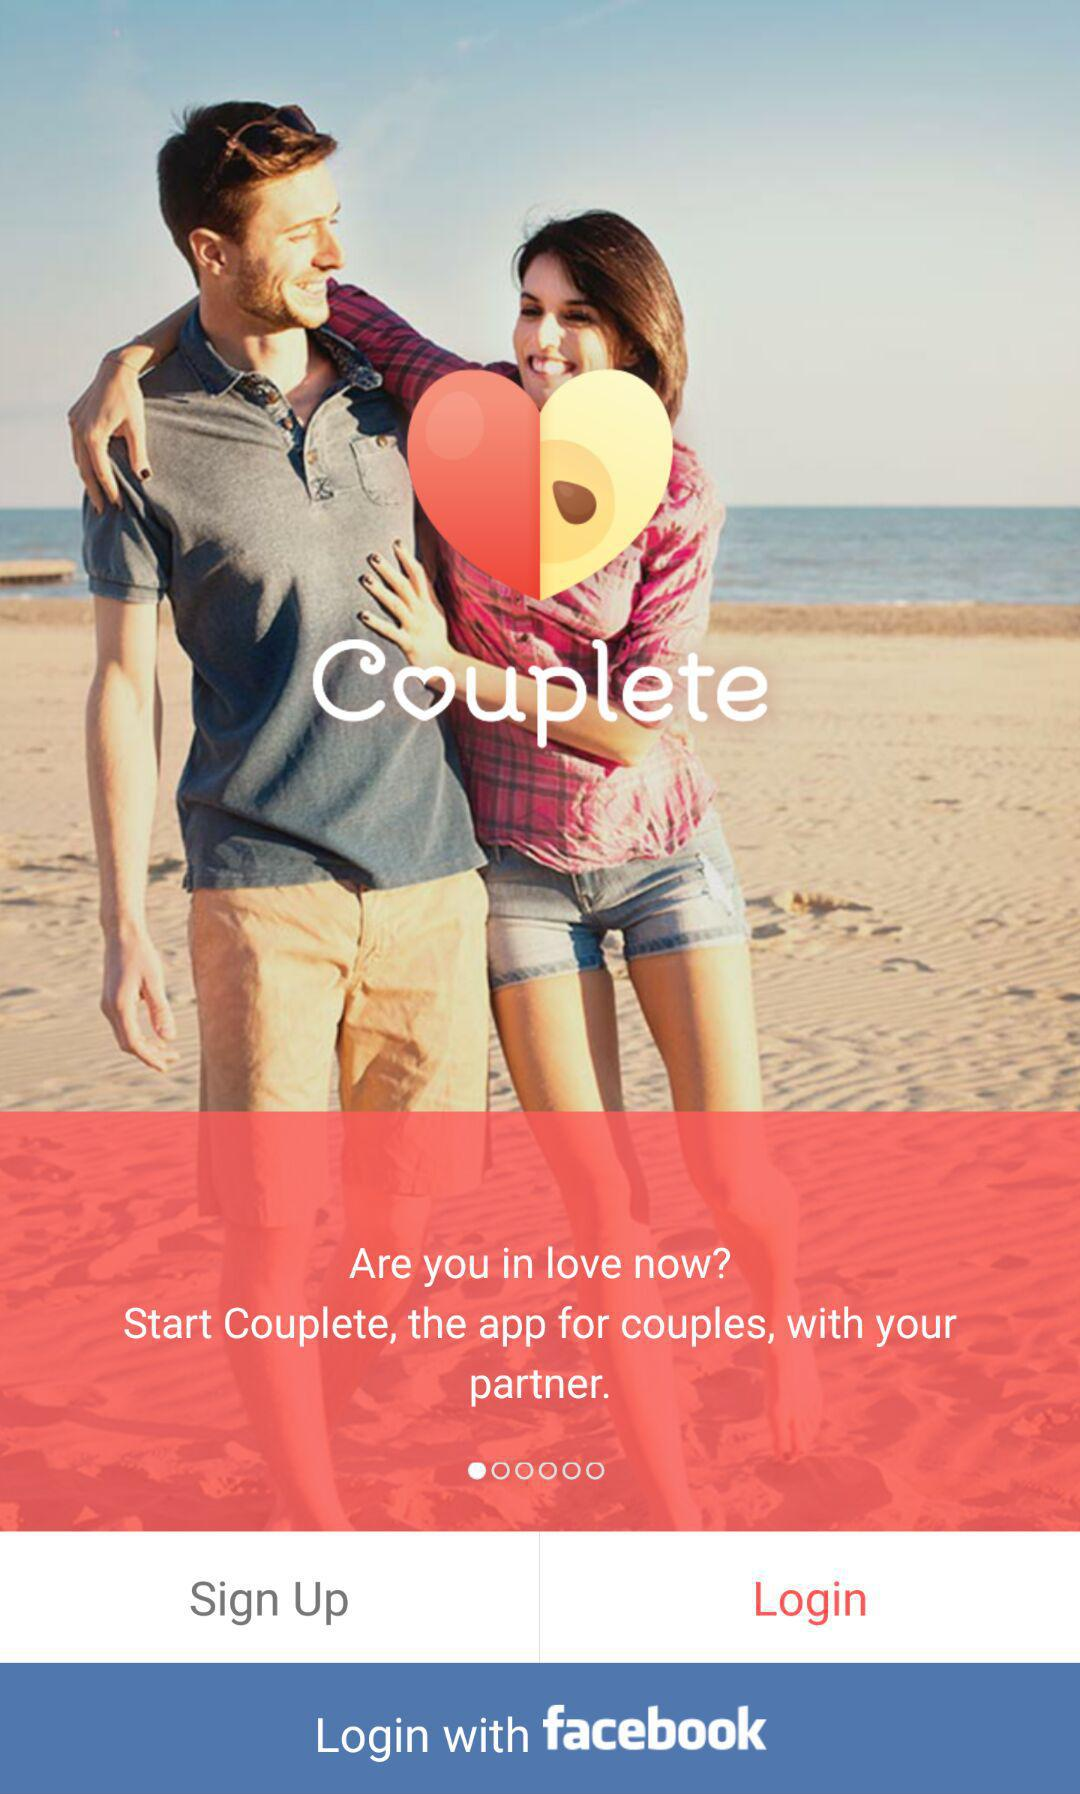BackgroundImage: (1, 1, 1080, 1533)
Image: (407, 370, 674, 604), (313, 638, 769, 751)
PageIndicator: (466, 1460, 607, 1483)
Text: (124, 1304, 958, 1408), (348, 1246, 732, 1289)
TextButton: (1, 1663, 1080, 1794), (1, 1533, 541, 1663), (541, 1533, 1080, 1663)
